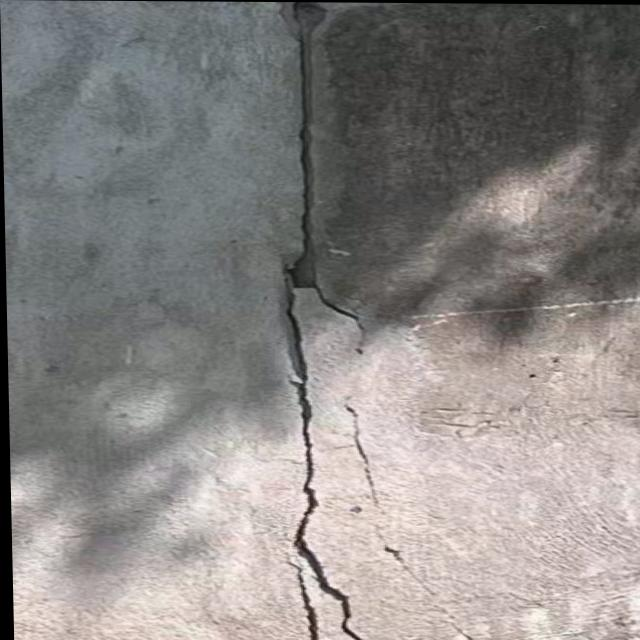crack: (234, 5, 495, 640)
